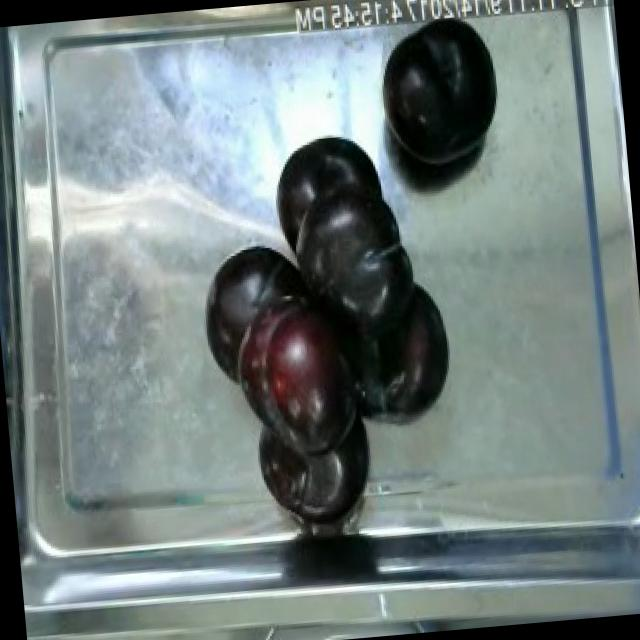Fruit: (224, 282, 372, 459), (368, 6, 510, 183)
